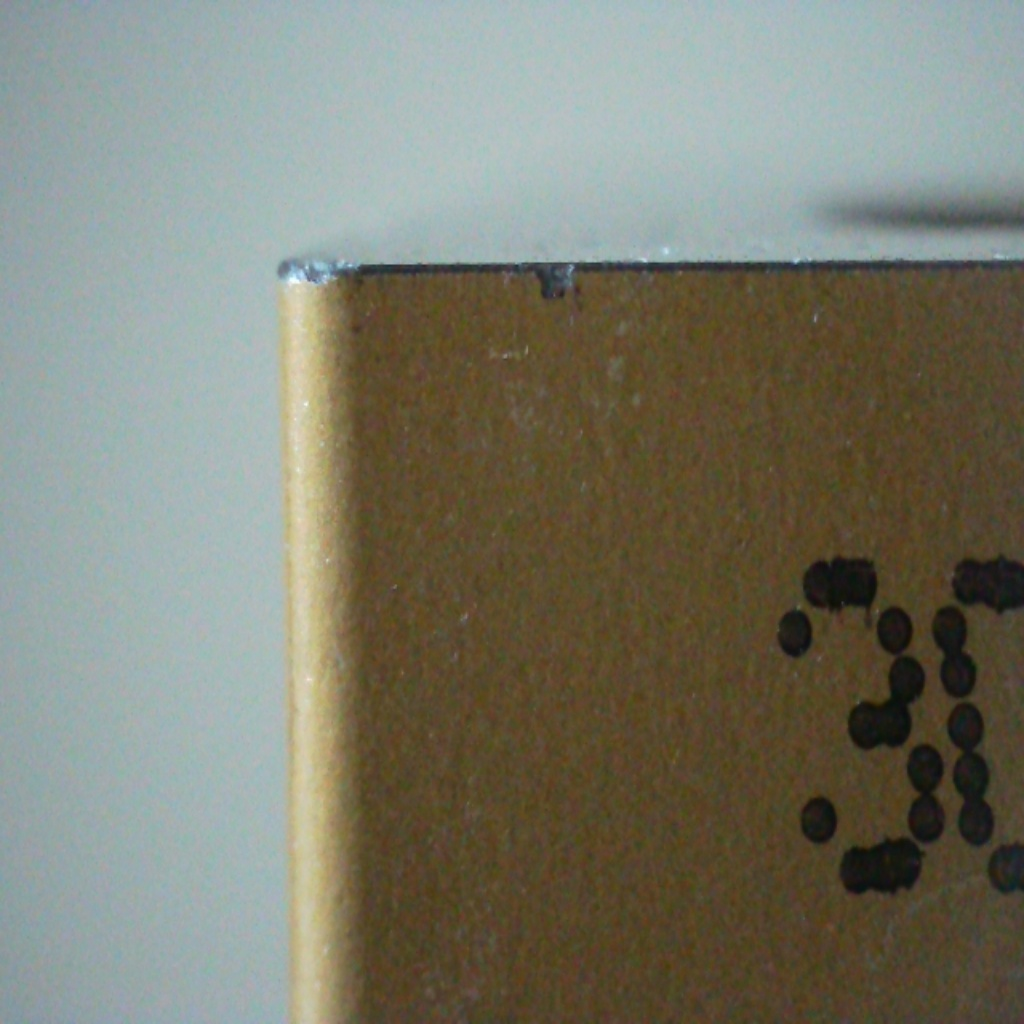flank_wear: (516, 250, 586, 310)
